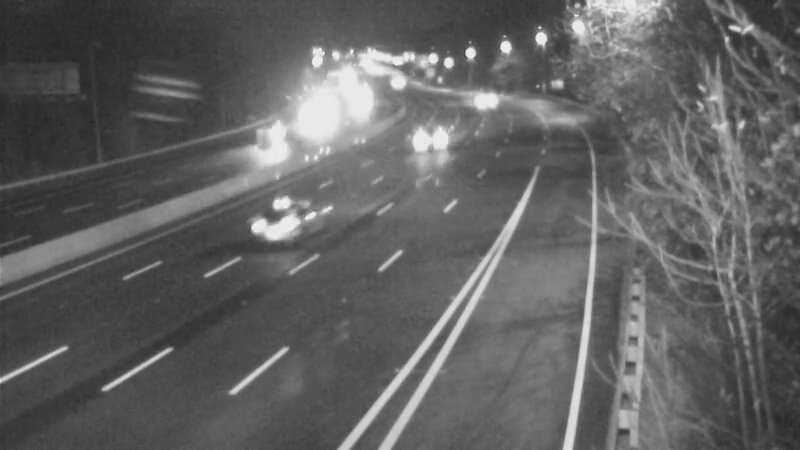vehicle: (221, 188, 301, 268), (372, 58, 422, 108), (452, 73, 502, 123), (402, 113, 452, 163), (247, 116, 297, 166)
